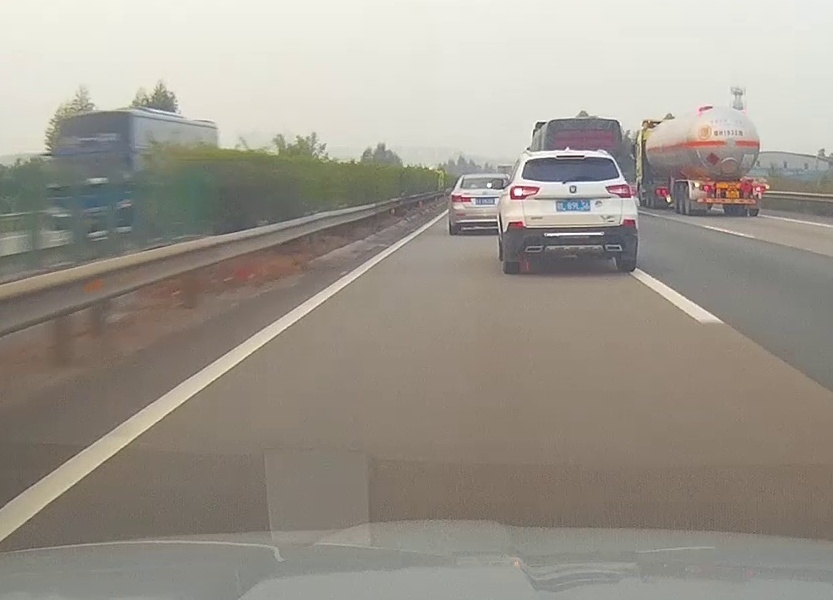L_light: (510, 185, 540, 200), (700, 185, 710, 192)
R_light: (606, 184, 632, 198), (755, 185, 765, 192)
T_light: (556, 154, 585, 159), (726, 181, 736, 183)
day-brake: (504, 149, 638, 275)
day-no: (687, 178, 770, 216)
